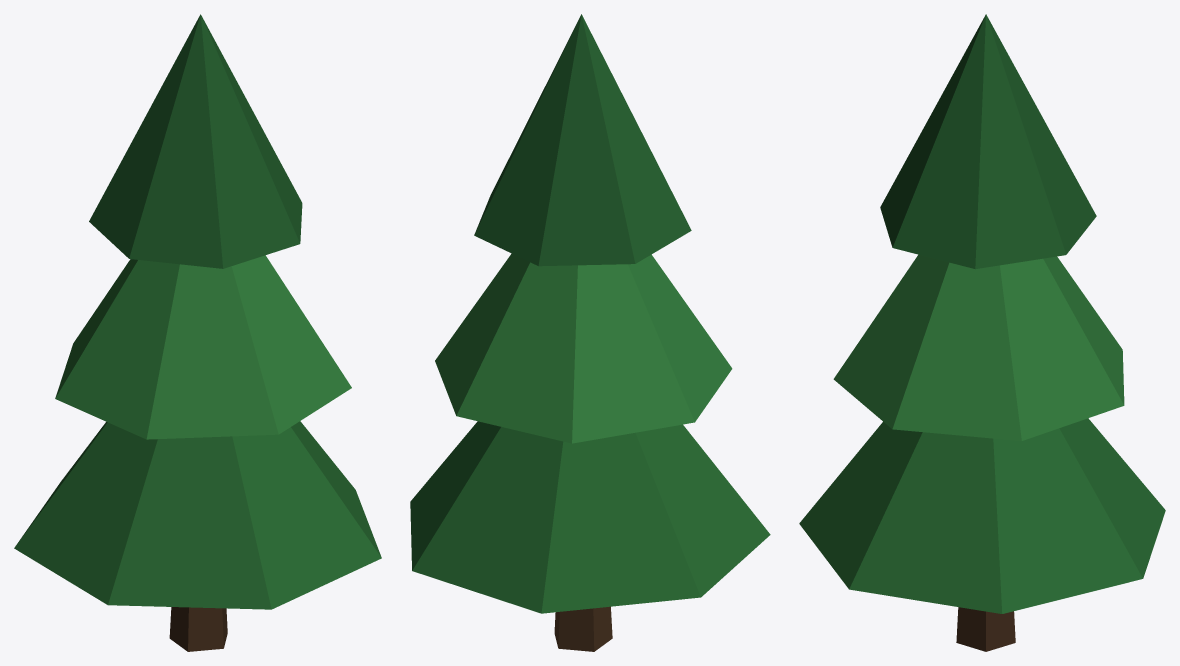
Rendered from TreeConifer_A.fbx.
3 views of the same model, side by side, from view 1: azimuth 30°, elevation 25°; view 2: azimuth 150°, elevation 25°; view 3: azimuth 270°, elevation 25° (orthographic).
Visible parts, largest first — view 1: TreeConifer_A; view 2: TreeConifer_A; view 3: TreeConifer_A.
Boxes of the visible parts, <box> form: TreeConifer_A: <box>14,14,381,651</box>; TreeConifer_A: <box>410,14,770,651</box>; TreeConifer_A: <box>799,14,1165,651</box>.
Size of the model in its own units: 2221 by 4200 by 2234.
